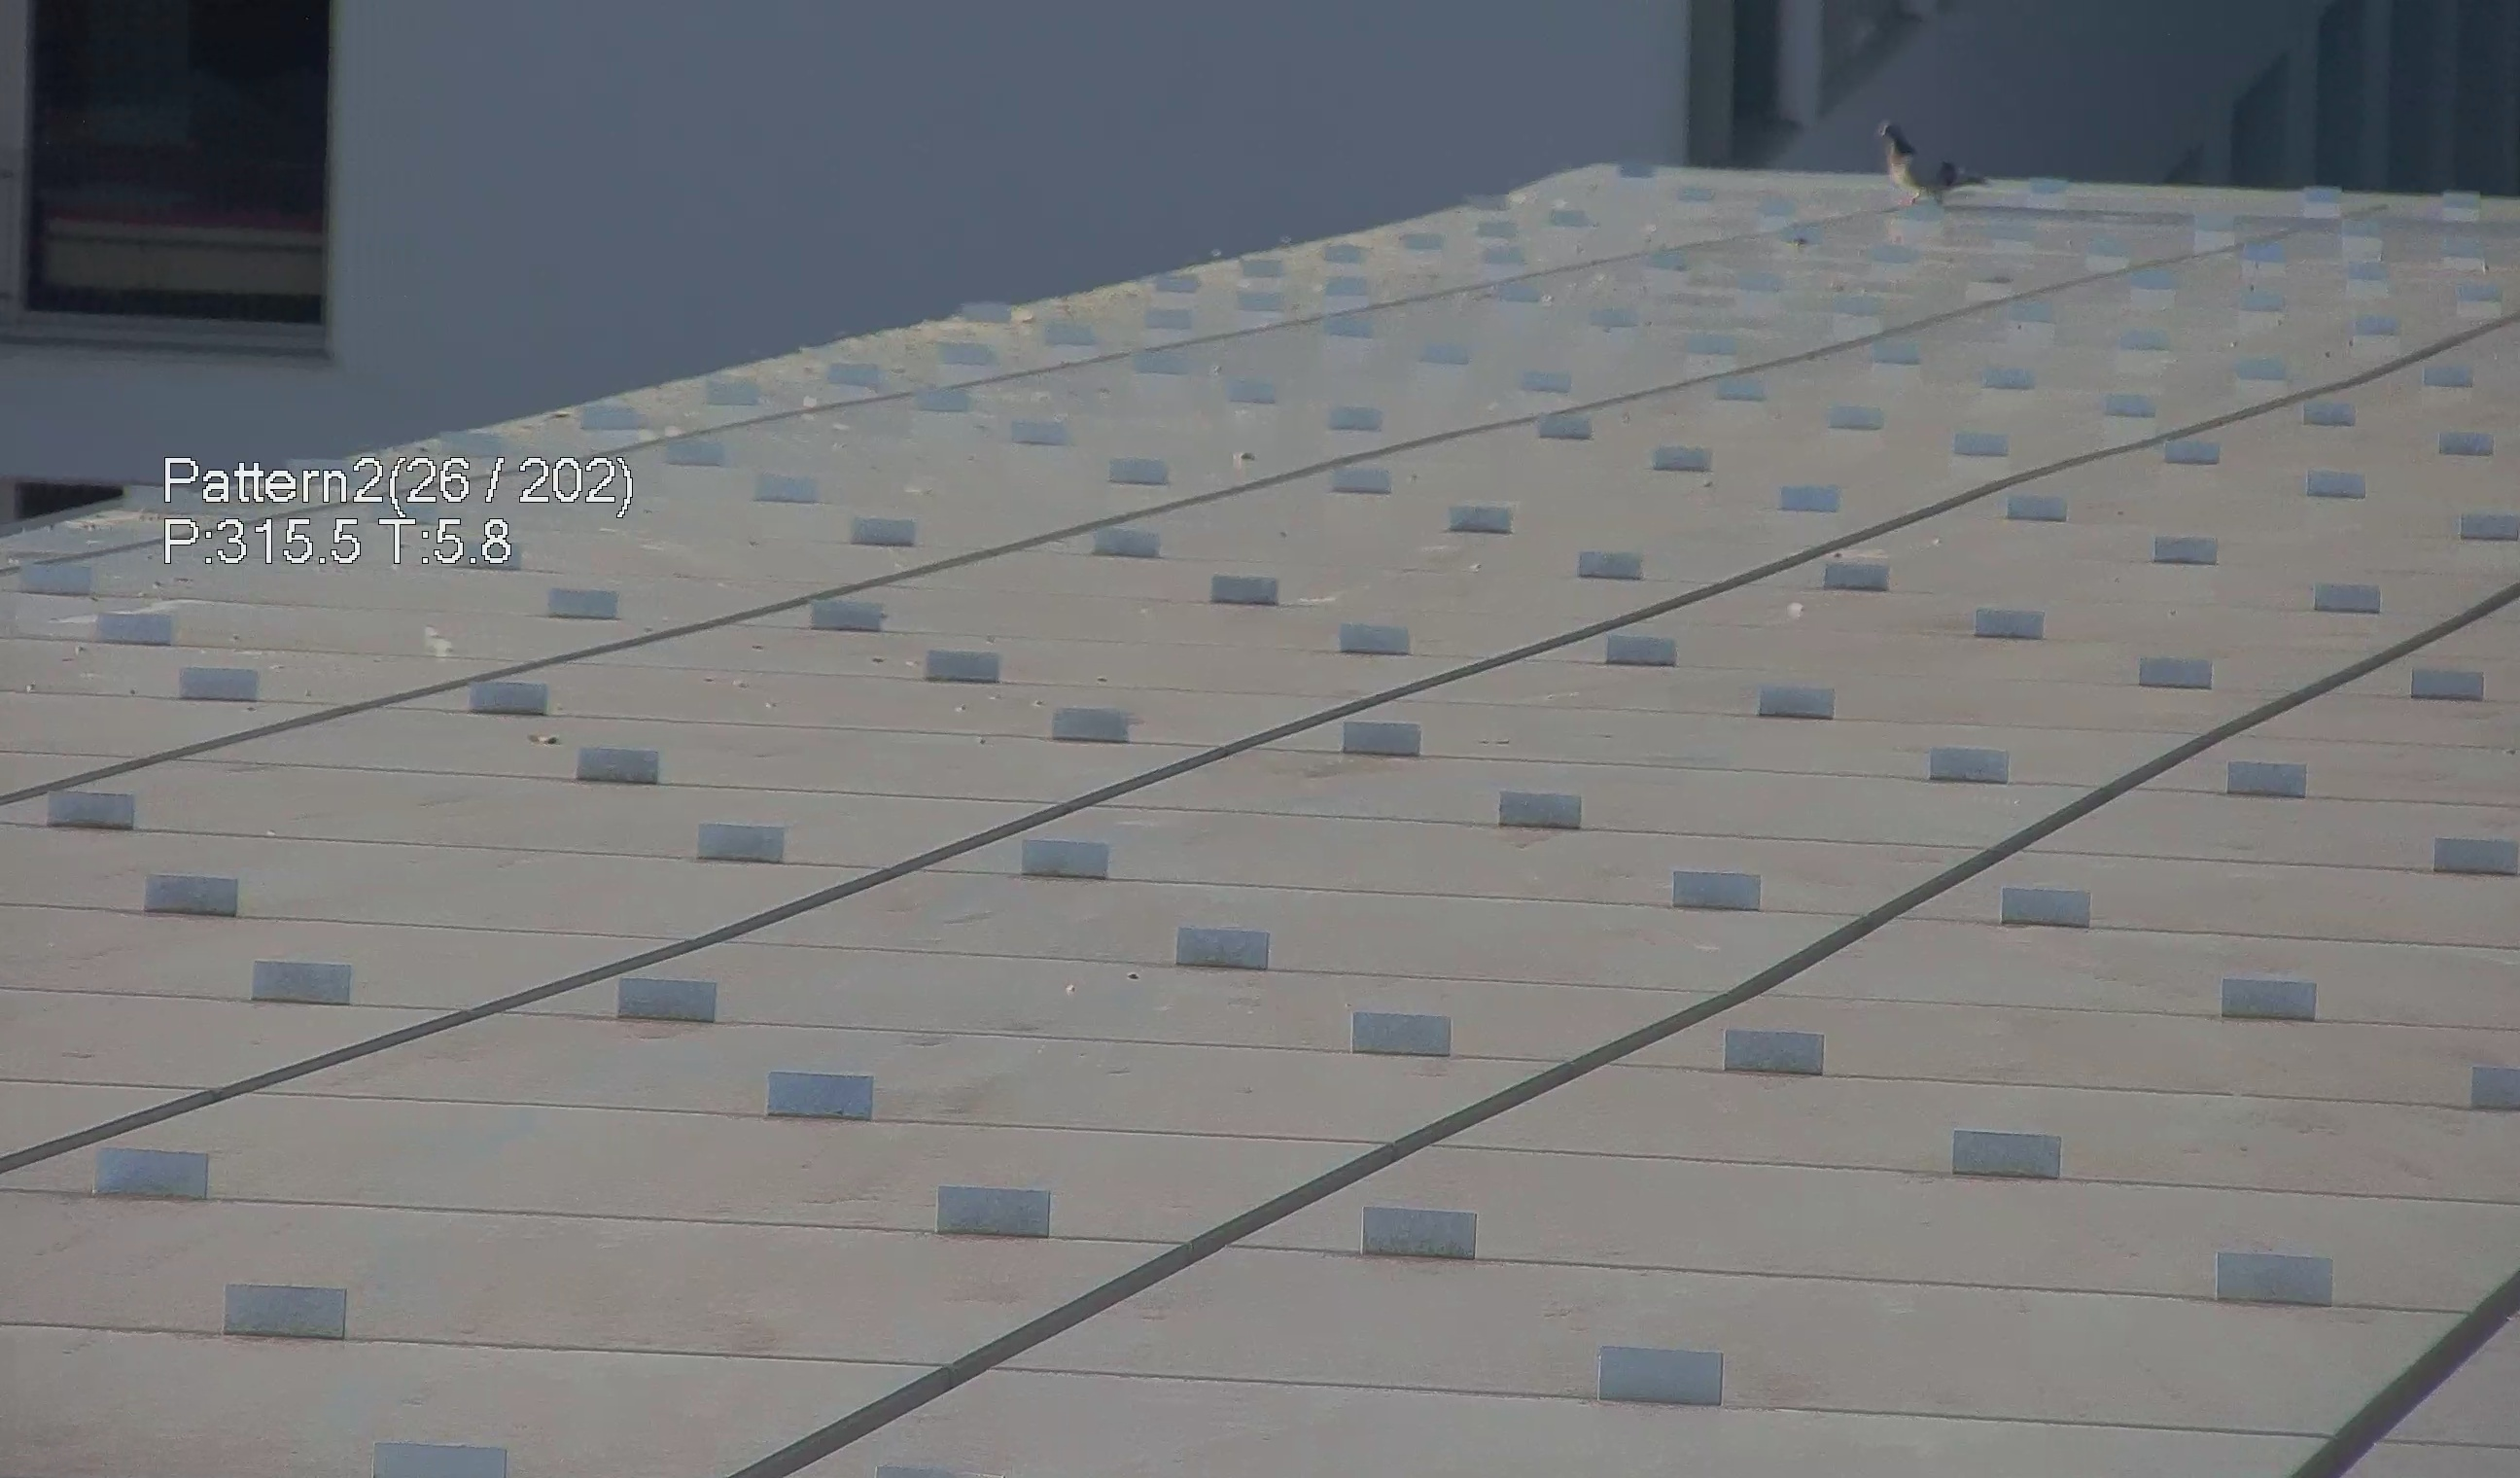Pigeon: (1875, 118, 1980, 201)
